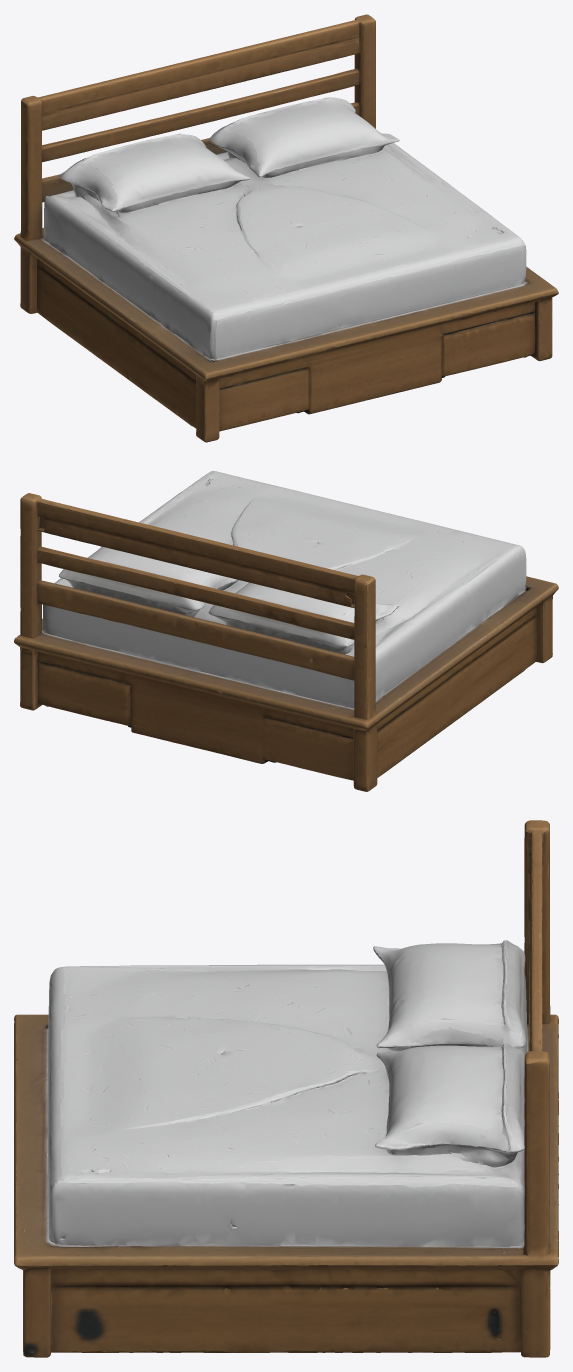
File: item_1363f8e5.glb
3 renders of one model, top to bottom at view 1: azimuth 30°, elevation 25°; view 2: azimuth 150°, elevation 25°; view 3: azimuth 270°, elevation 25°, orthographic. The views are drawn at different scales.
Parts seen in each view (by area): view 1: world; view 2: world; view 3: world.
Boxes of the visible parts, x1,y1,x2,y2 form: world: (14,14,558,442); world: (14,471,558,791); world: (14,820,558,1357).
Size of the model in its own units: 2.15 by 1.23 by 2.02.
Materials: 1 (1 with a texture image).
